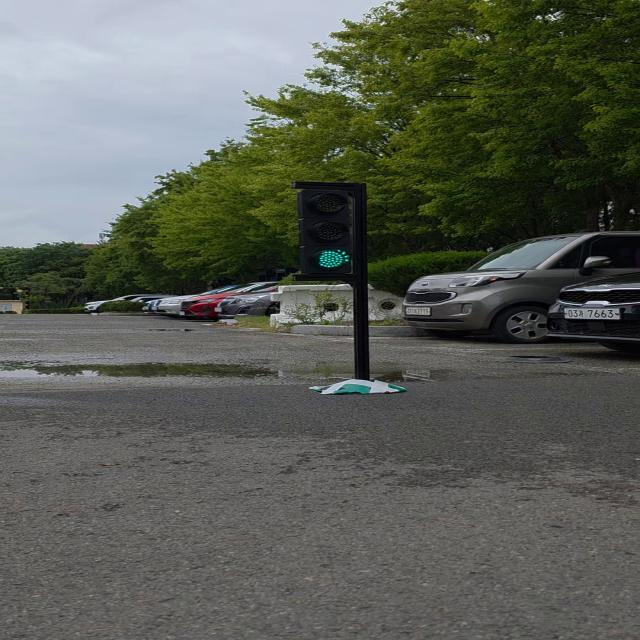green: (300, 184, 368, 281)
